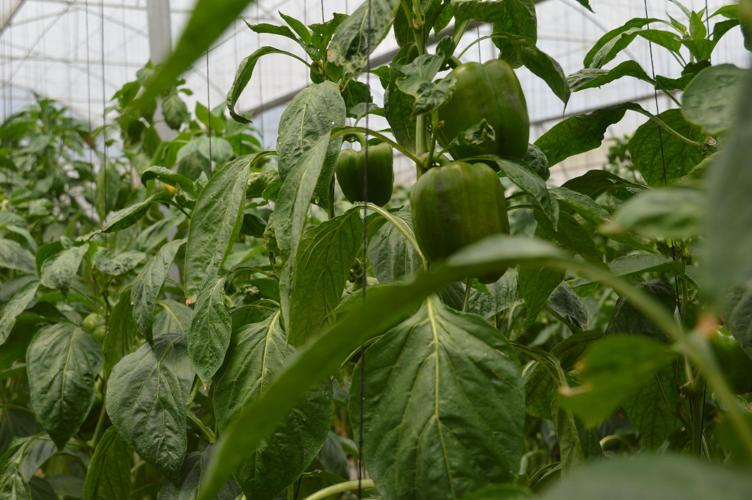BellPepper: (410, 165, 507, 279), (435, 57, 531, 157), (330, 145, 394, 208)
